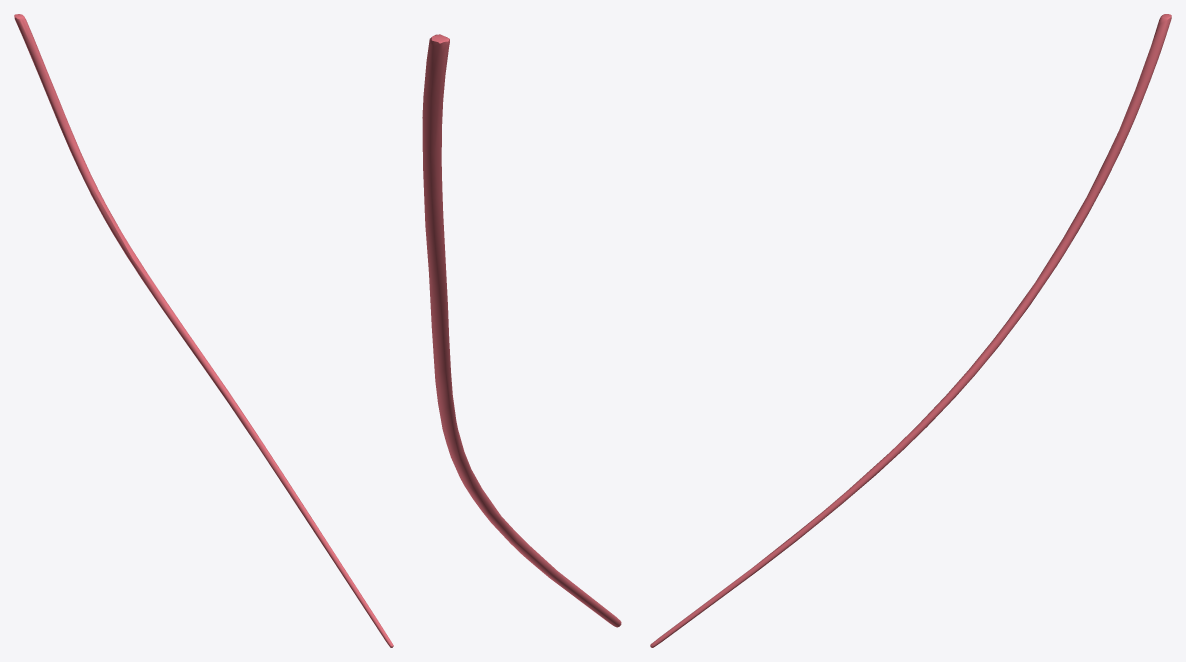
Rendered from fma85097_fj2324.glb.
The picture shows the model from 3 angles, left to right: view 1: azimuth 30°, elevation 25°; view 2: azimuth 150°, elevation 25°; view 3: azimuth 270°, elevation 25°; orthographic projection. The views are drawn at different scales.
Visible parts, largest first — view 1: FMA85097_FJ2324; view 2: FMA85097_FJ2324; view 3: FMA85097_FJ2324.
Boxes of the visible parts, x1,y1,x2,y2 form: FMA85097_FJ2324: [14, 14, 393, 647]; FMA85097_FJ2324: [422, 34, 621, 627]; FMA85097_FJ2324: [650, 14, 1171, 647].
Bounding box in the file's own units: 0.0173 × 0.0555 × 0.0473.
